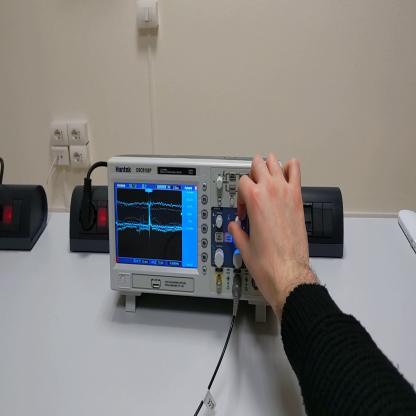hand: (230, 155, 314, 325)
oscilloscope: (108, 150, 277, 328)
socket: (1, 183, 50, 254), (71, 187, 109, 254)
